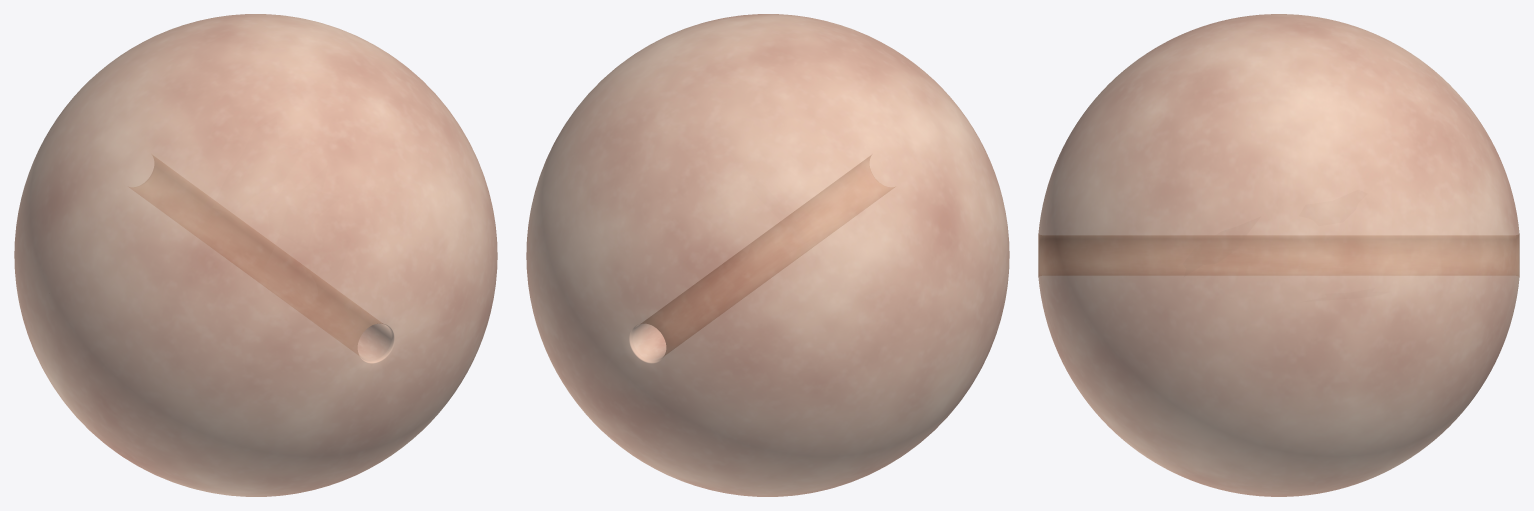
The model's file is morganite-12mm.glb.
3 views of the same model, side by side, from view 1: azimuth 30°, elevation 25°; view 2: azimuth 150°, elevation 25°; view 3: azimuth 270°, elevation 25° (orthographic).
Parts seen in each view (by area): view 1: morganite.001; view 2: morganite.001; view 3: morganite.001.
Boxes of the visible parts, x1,y1,x2,y2 form: morganite.001: (14, 14, 497, 496); morganite.001: (526, 14, 1009, 496); morganite.001: (1038, 14, 1519, 496).
Size of the model in its own units: 0.012 by 0.012 by 0.012.
Materials: 2 (1 with a texture image).
